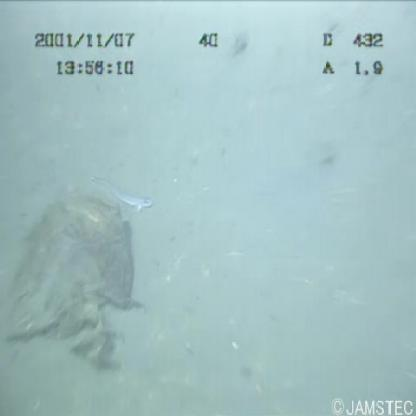Bio: (91, 171, 157, 221)
Rác: (3, 167, 163, 387)
